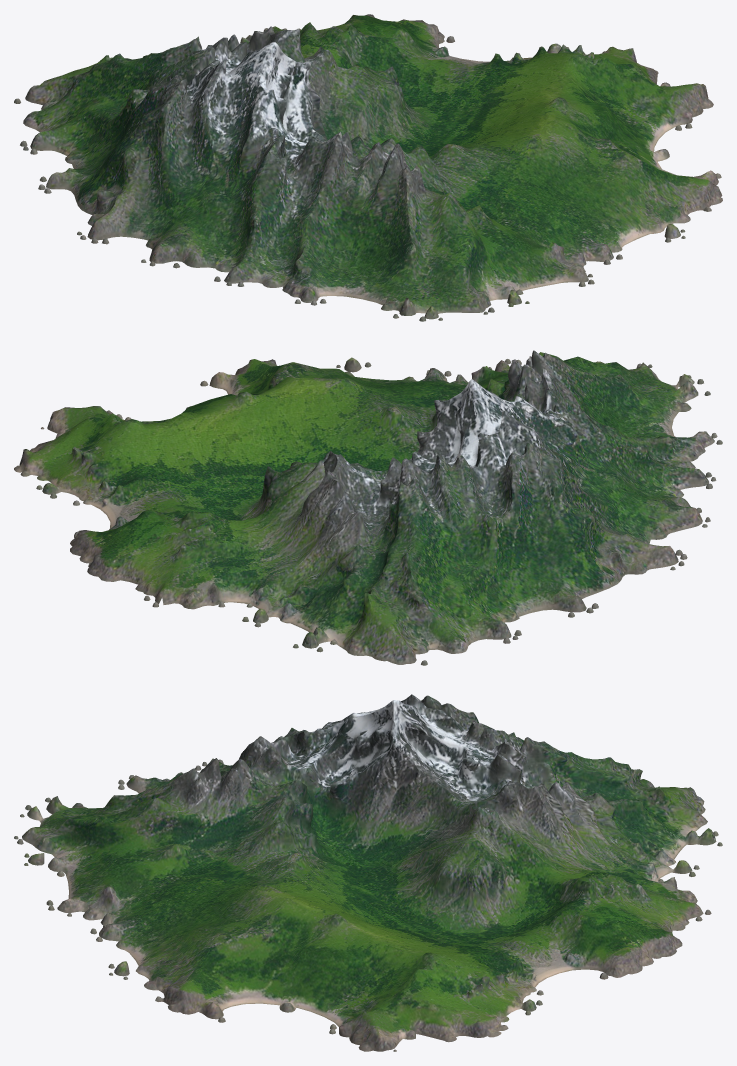
The model's file is terrain.glb.
3 views of the same model, one above another, from view 1: azimuth 30°, elevation 25°; view 2: azimuth 150°, elevation 25°; view 3: azimuth 270°, elevation 25° (orthographic). The views are drawn at different scales.
Parts seen in each view (by area): view 1: ee9ee1ce_07ac_482f_b7d1_987458321249; view 2: ee9ee1ce_07ac_482f_b7d1_987458321249; view 3: ee9ee1ce_07ac_482f_b7d1_987458321249.
Part boxes in pixels (bbox=[...]): ee9ee1ce_07ac_482f_b7d1_987458321249: bbox=[14, 14, 722, 321]; ee9ee1ce_07ac_482f_b7d1_987458321249: bbox=[14, 350, 722, 665]; ee9ee1ce_07ac_482f_b7d1_987458321249: bbox=[14, 694, 722, 1051].
Bounding box in the file's own units: 3000 × 752 × 3000.
Materials: 1 (1 with a texture image).
